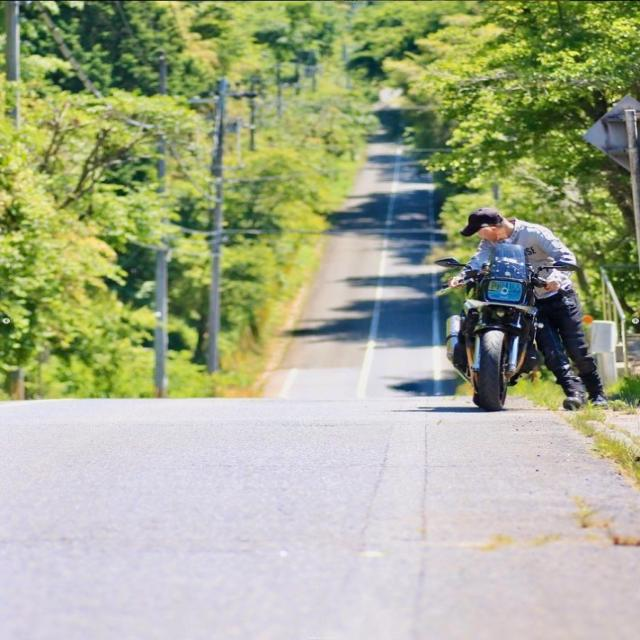illegal_helmet: (456, 206, 513, 244)
